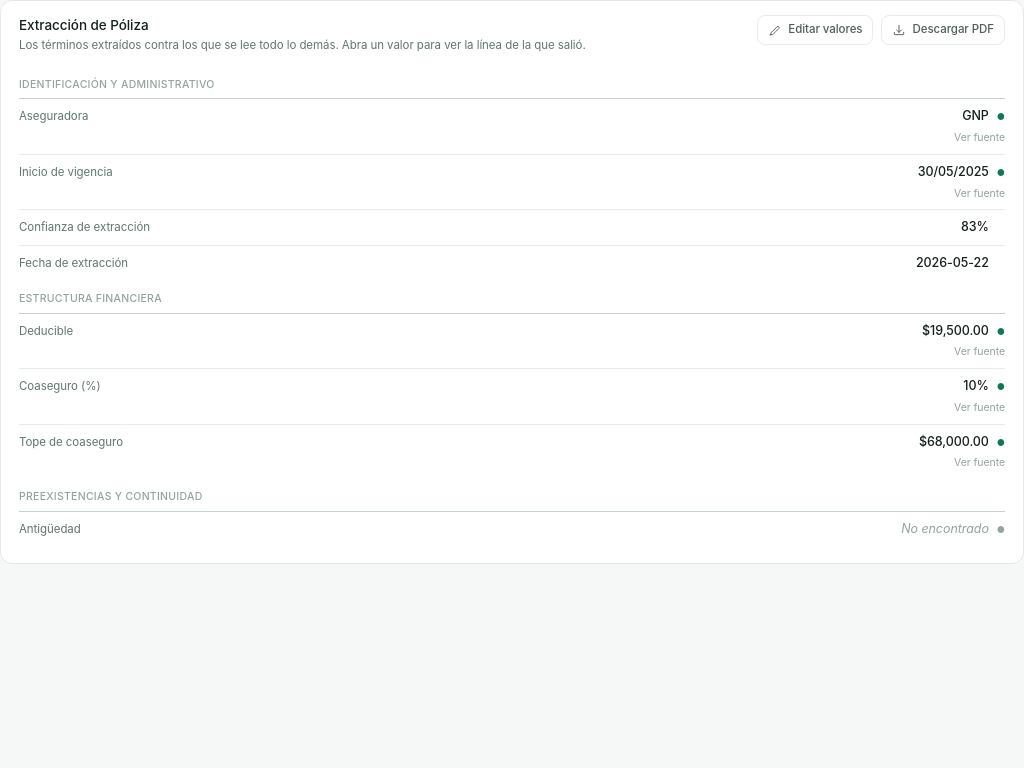
Test: PolicyExtractionCard › restores the extracted value
Click the button "Editar valores" at (815, 30), box [757,15,873,45]
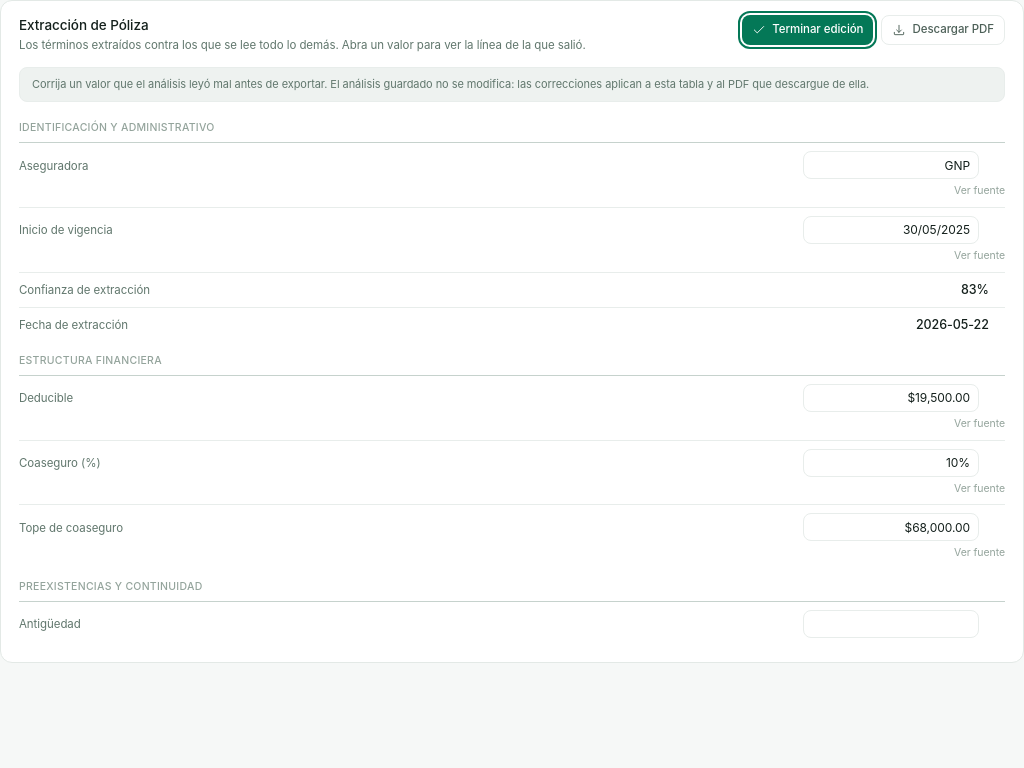
Type "0" into the field named "Valor de Deducible" at (891, 398), box [803,384,979,412]
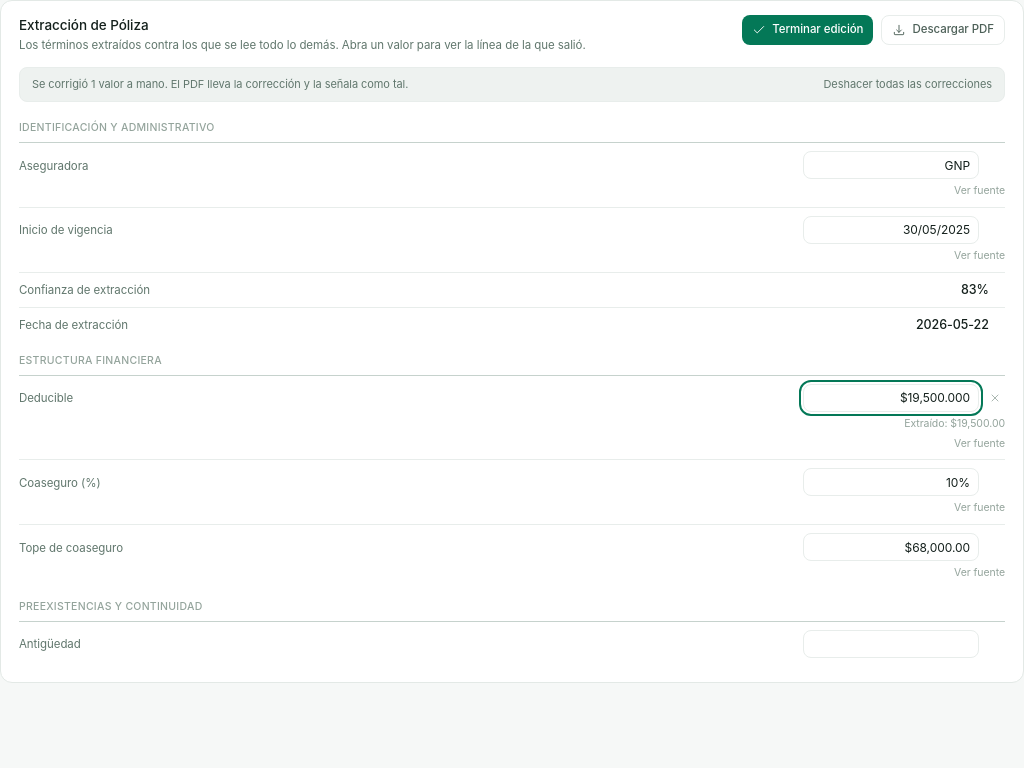
Click the button named "Restaurar el valor extraído" at (995, 398), box [985,388,1005,408]
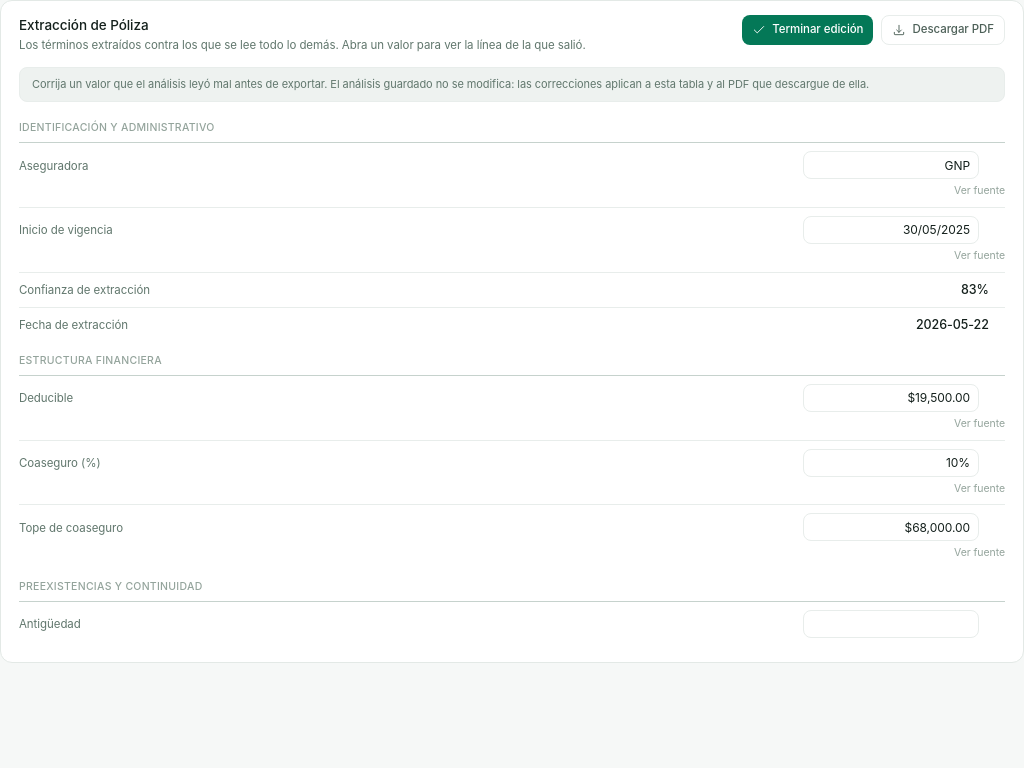
expect the field named "Valor de Deducible" holds "$19,500.00": met, box [803,384,979,412]
expect the text "Se corrigió" is gone: met
